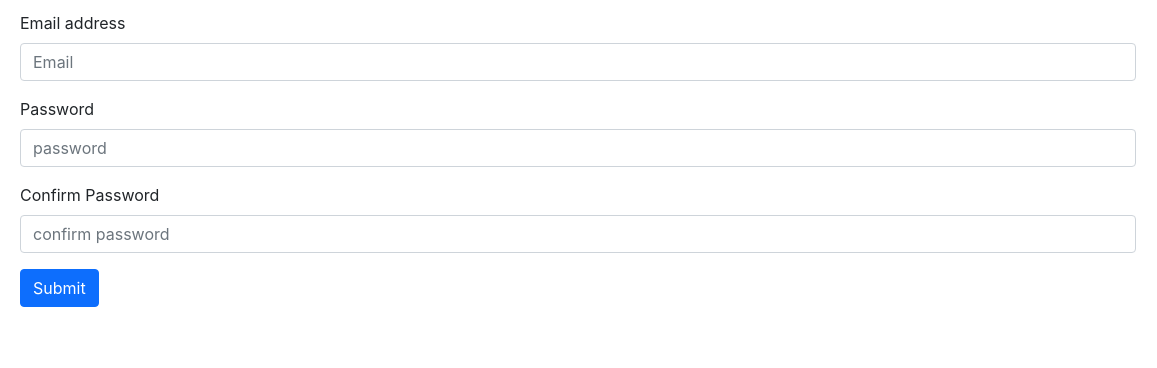
Test: the password length should be great than 5
Check: the text "the password length should be great than 5" is not shown
Type "dan@test.com" into the field labelled "Email address" at coordinates (578, 62), box [20, 43, 1136, 81]
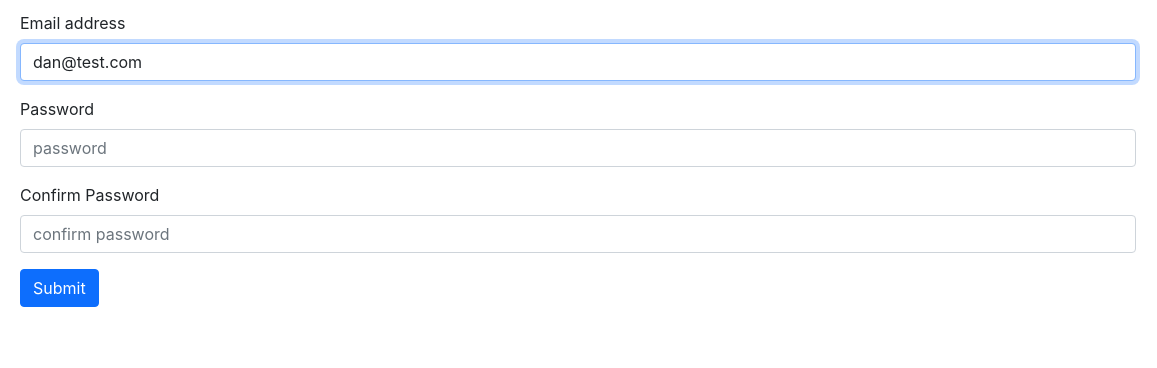
Type "1234" into the password field labelled "Password" at coordinates (578, 148), box [20, 129, 1136, 167]
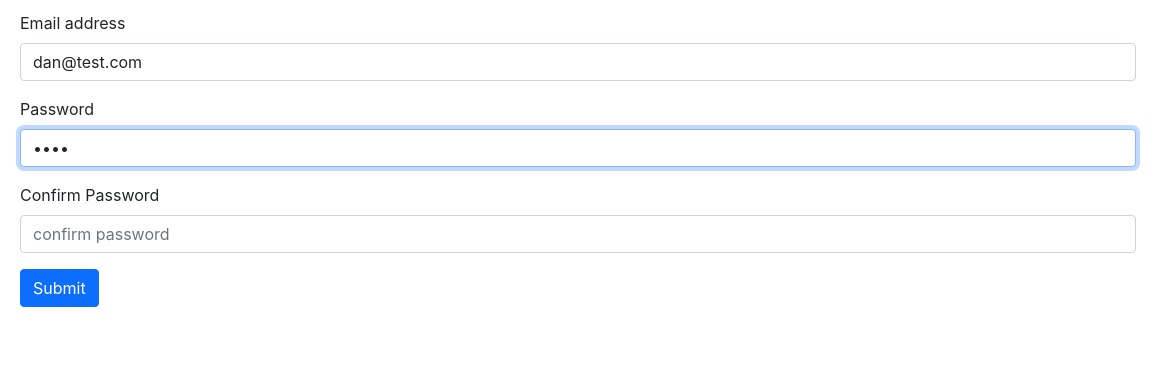
Click the button "Submit" at coordinates (59, 288), box [20, 269, 99, 307]
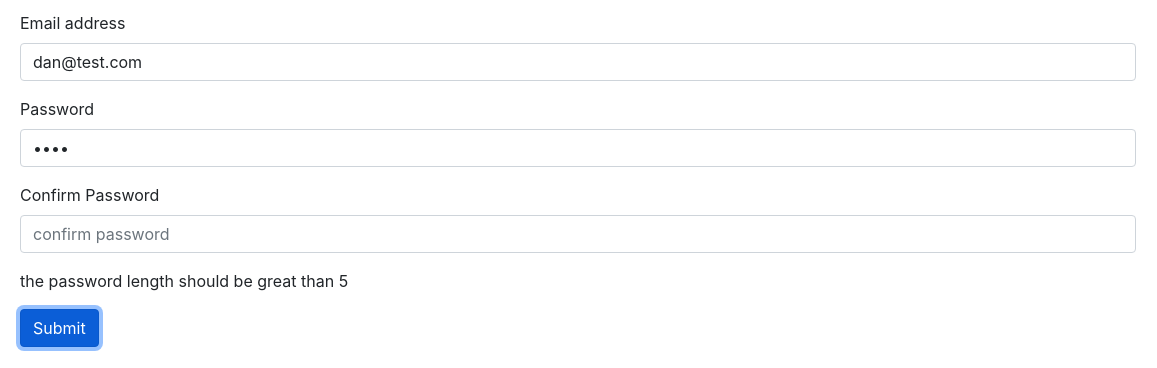
Check: the text "the password length should be great than 5" is shown, box [20, 271, 348, 291]
